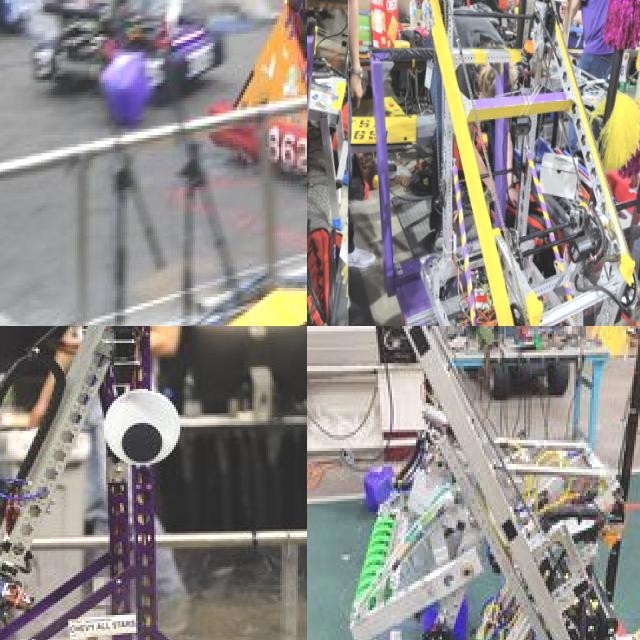FRC-Robots: (307, 326, 640, 640), (0, 326, 302, 640), (404, 0, 640, 326), (60, 0, 225, 91)
